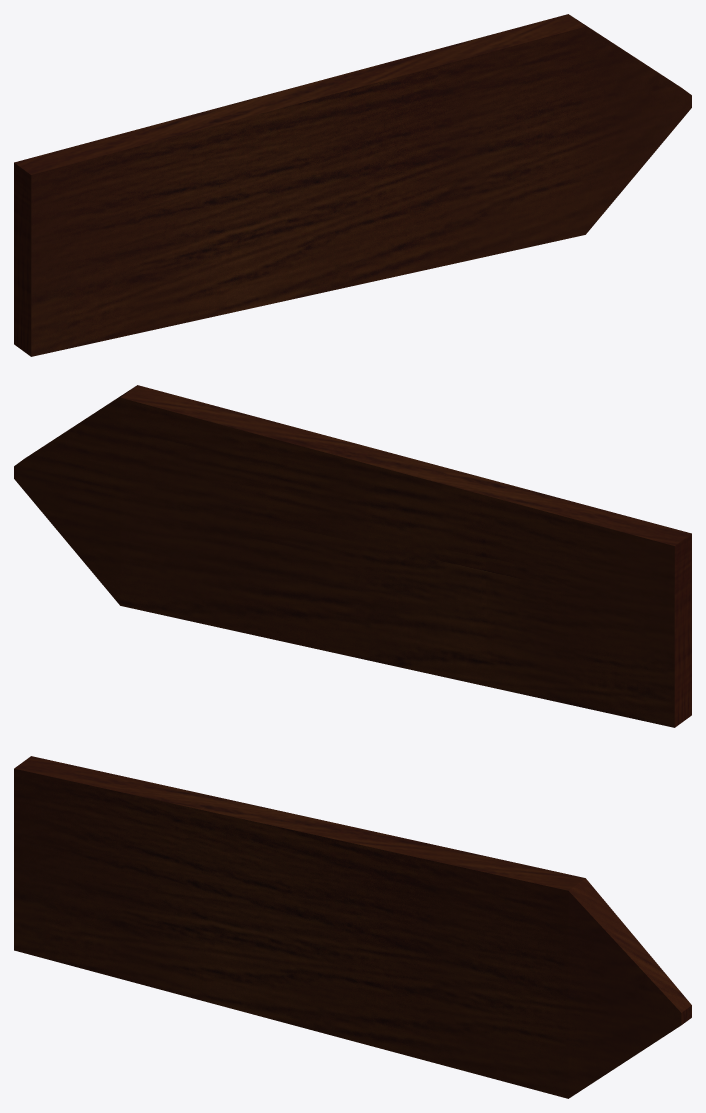
Rendered from sign1.fbx.
3 views of the same model, one above another, from view 1: azimuth 30°, elevation 25°; view 2: azimuth 150°, elevation 25°; view 3: azimuth 330°, elevation 25° (orthographic).
Visible parts, largest first — view 1: Cube; view 2: Cube; view 3: Cube.
Boxes of the visible parts, x1,y1,x2,y2 form: Cube: (14,14,691,356); Cube: (14,385,691,727); Cube: (14,756,691,1098).
Size of the model in its own units: 2118 by 634 by 95.12.
